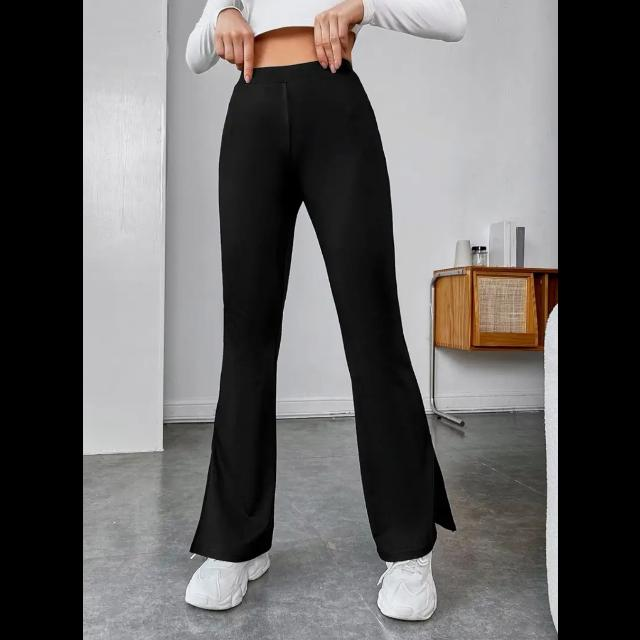bottom: (198, 60, 446, 560)
